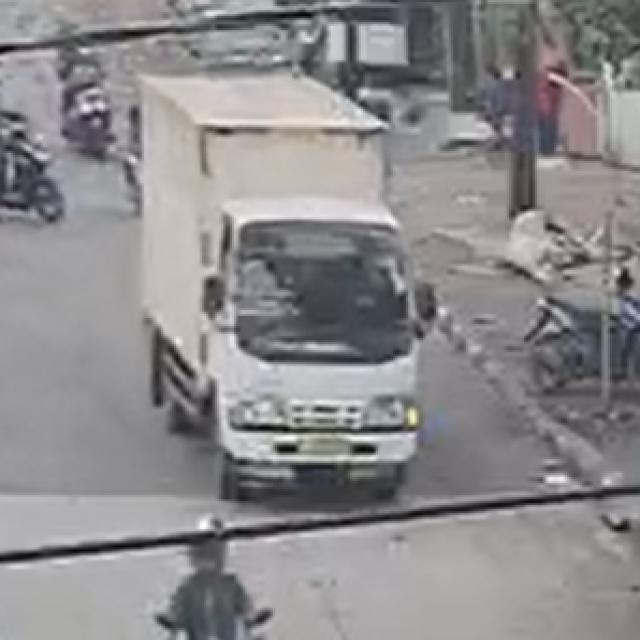truck: (117, 41, 449, 507)
